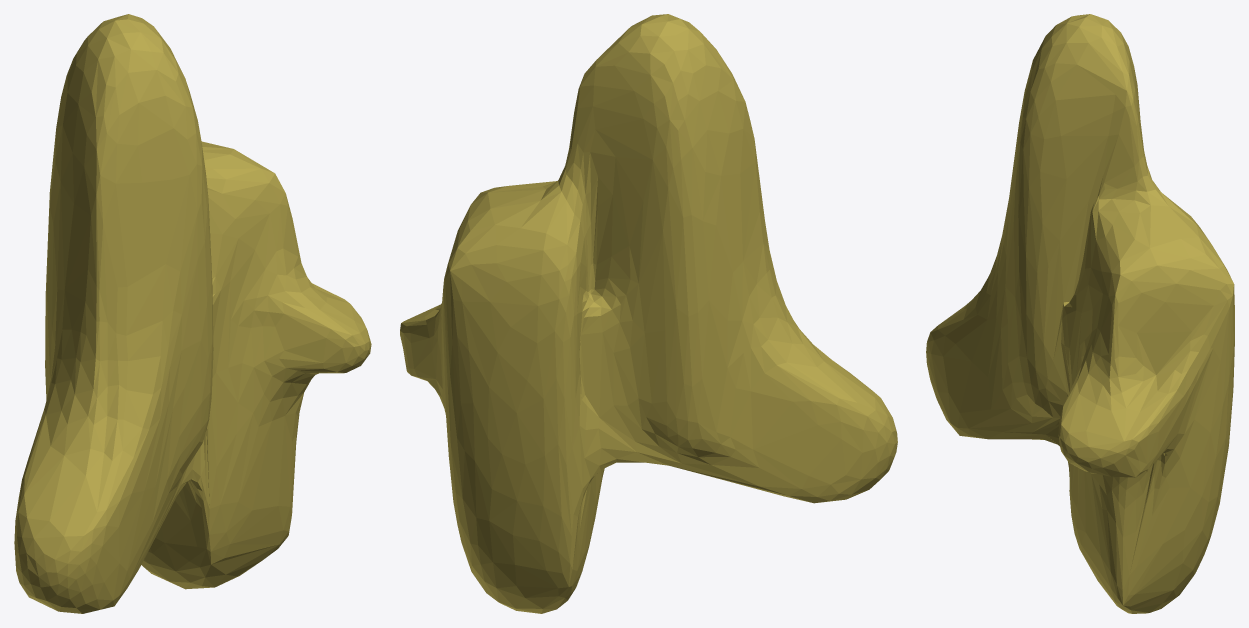
The picture shows the model from 3 angles, left to right: view 1: azimuth 30°, elevation 25°; view 2: azimuth 150°, elevation 25°; view 3: azimuth 270°, elevation 25°; orthographic projection. The views are drawn at different scales.
Parts seen in each view (by area): view 1: 716_Cube.2876; view 2: 716_Cube.2876; view 3: 716_Cube.2876.
Part boxes in pixels (bbox=[...]): 716_Cube.2876: bbox=[14, 14, 371, 613]; 716_Cube.2876: bbox=[400, 14, 897, 613]; 716_Cube.2876: bbox=[926, 14, 1234, 613].
Size of the model in its own units: 11.79 by 16.47 by 8.47.
